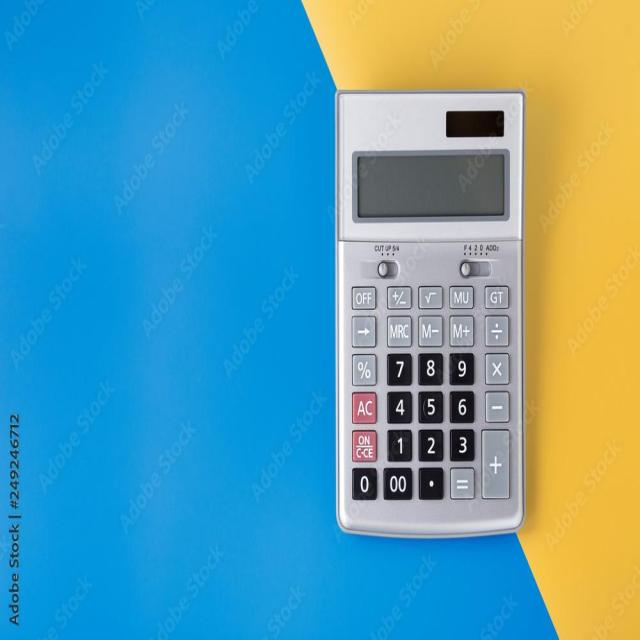Calculator: (295, 67, 581, 578)
